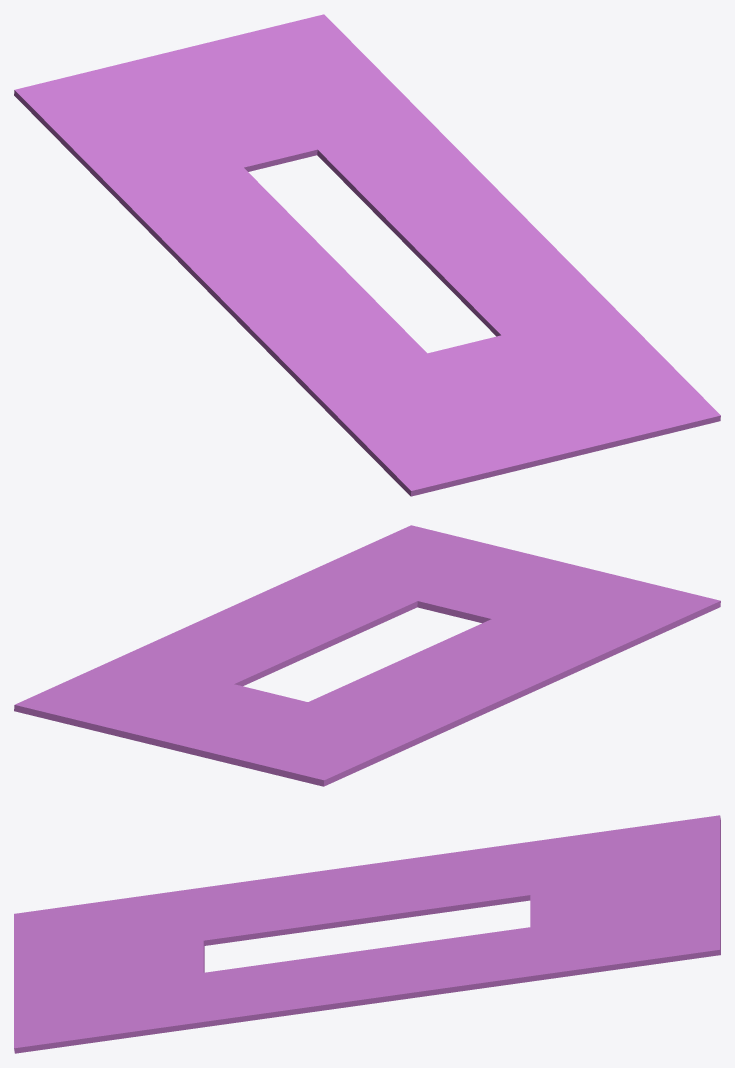
The model's file is top.FBX.
3 renders of one model, top to bottom at view 1: azimuth 30°, elevation 25°; view 2: azimuth 150°, elevation 25°; view 3: azimuth 270°, elevation 25°, orthographic. The views are drawn at different scales.
Visible parts, largest first — view 1: Top; view 2: Top; view 3: Top.
Boxes of the visible parts, x1,y1,x2,y2 form: Top: (14, 14, 720, 496); Top: (14, 525, 720, 786); Top: (14, 815, 720, 1053).
Size of the model in its own units: 8000 by 17773 by 2884.
